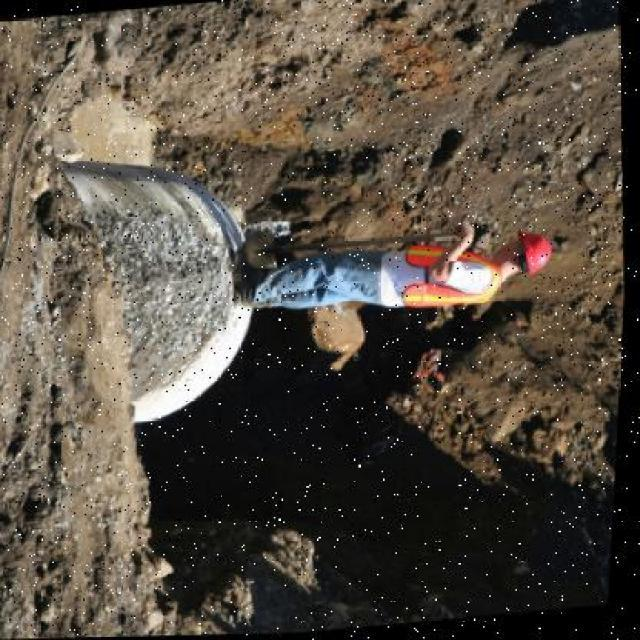helmet: (519, 236, 557, 278)
